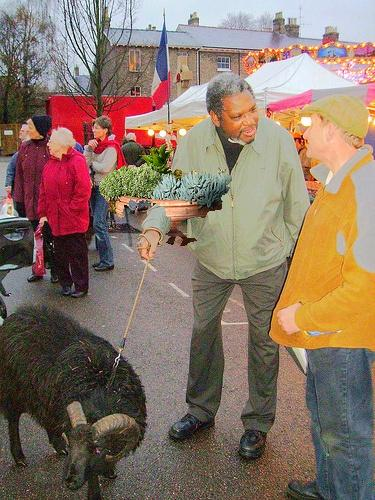tampered: (100, 145, 232, 246)
